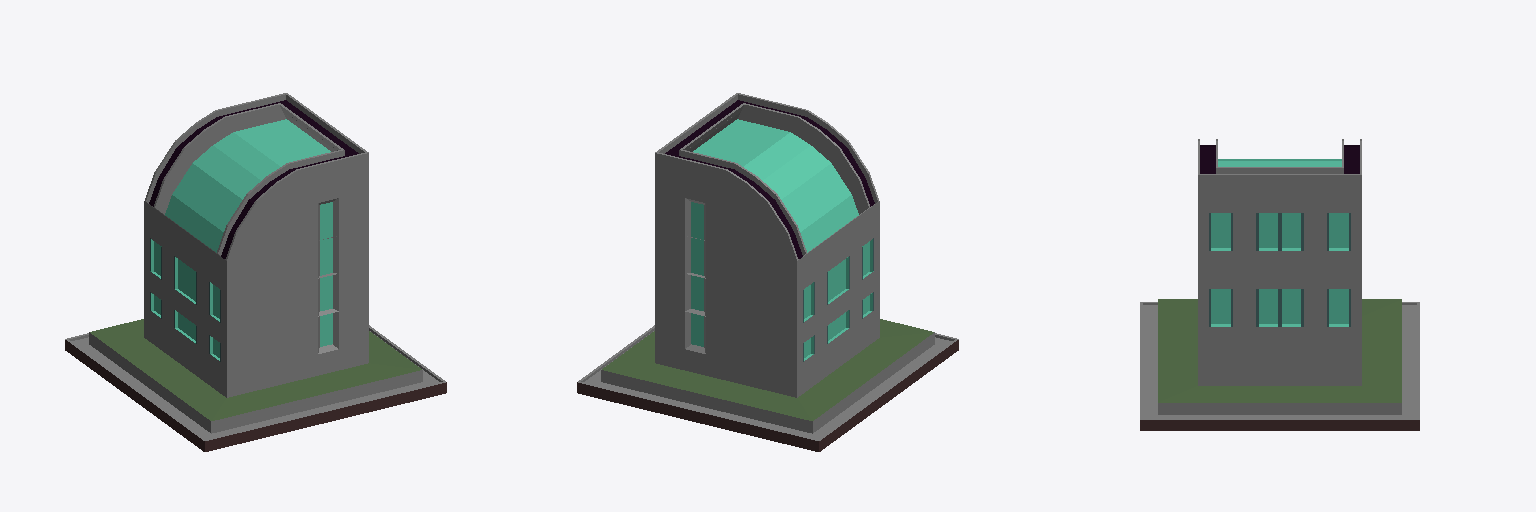
3 views of the same model, side by side, from view 1: azimuth 30°, elevation 25°; view 2: azimuth 150°, elevation 25°; view 3: azimuth 270°, elevation 25° (orthographic).
Visible parts, largest first — view 1: house_Cube; view 2: house_Cube; view 3: house_Cube.
Part boxes in pixels (bbox=[...]): house_Cube: bbox=[65, 93, 446, 451]; house_Cube: bbox=[577, 93, 958, 451]; house_Cube: bbox=[1140, 139, 1419, 430].
Bounding box in the file's own units: 2 × 1.82 × 2.
1 materials, 1 textured.